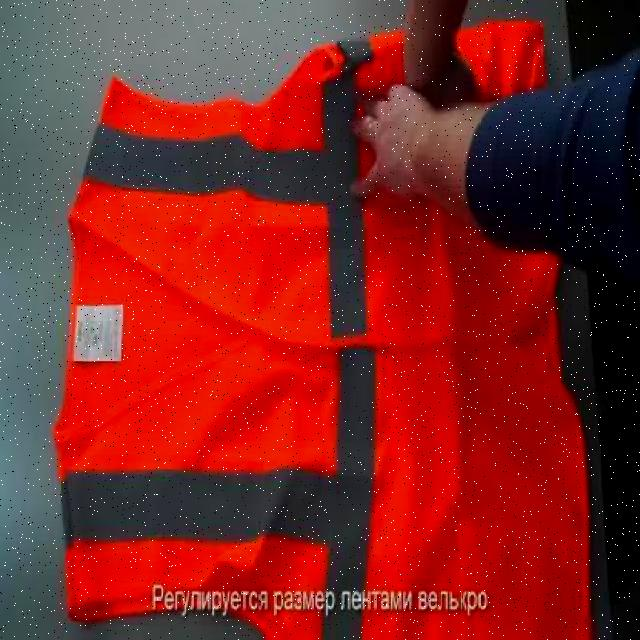Mask: (54, 16, 596, 638)
